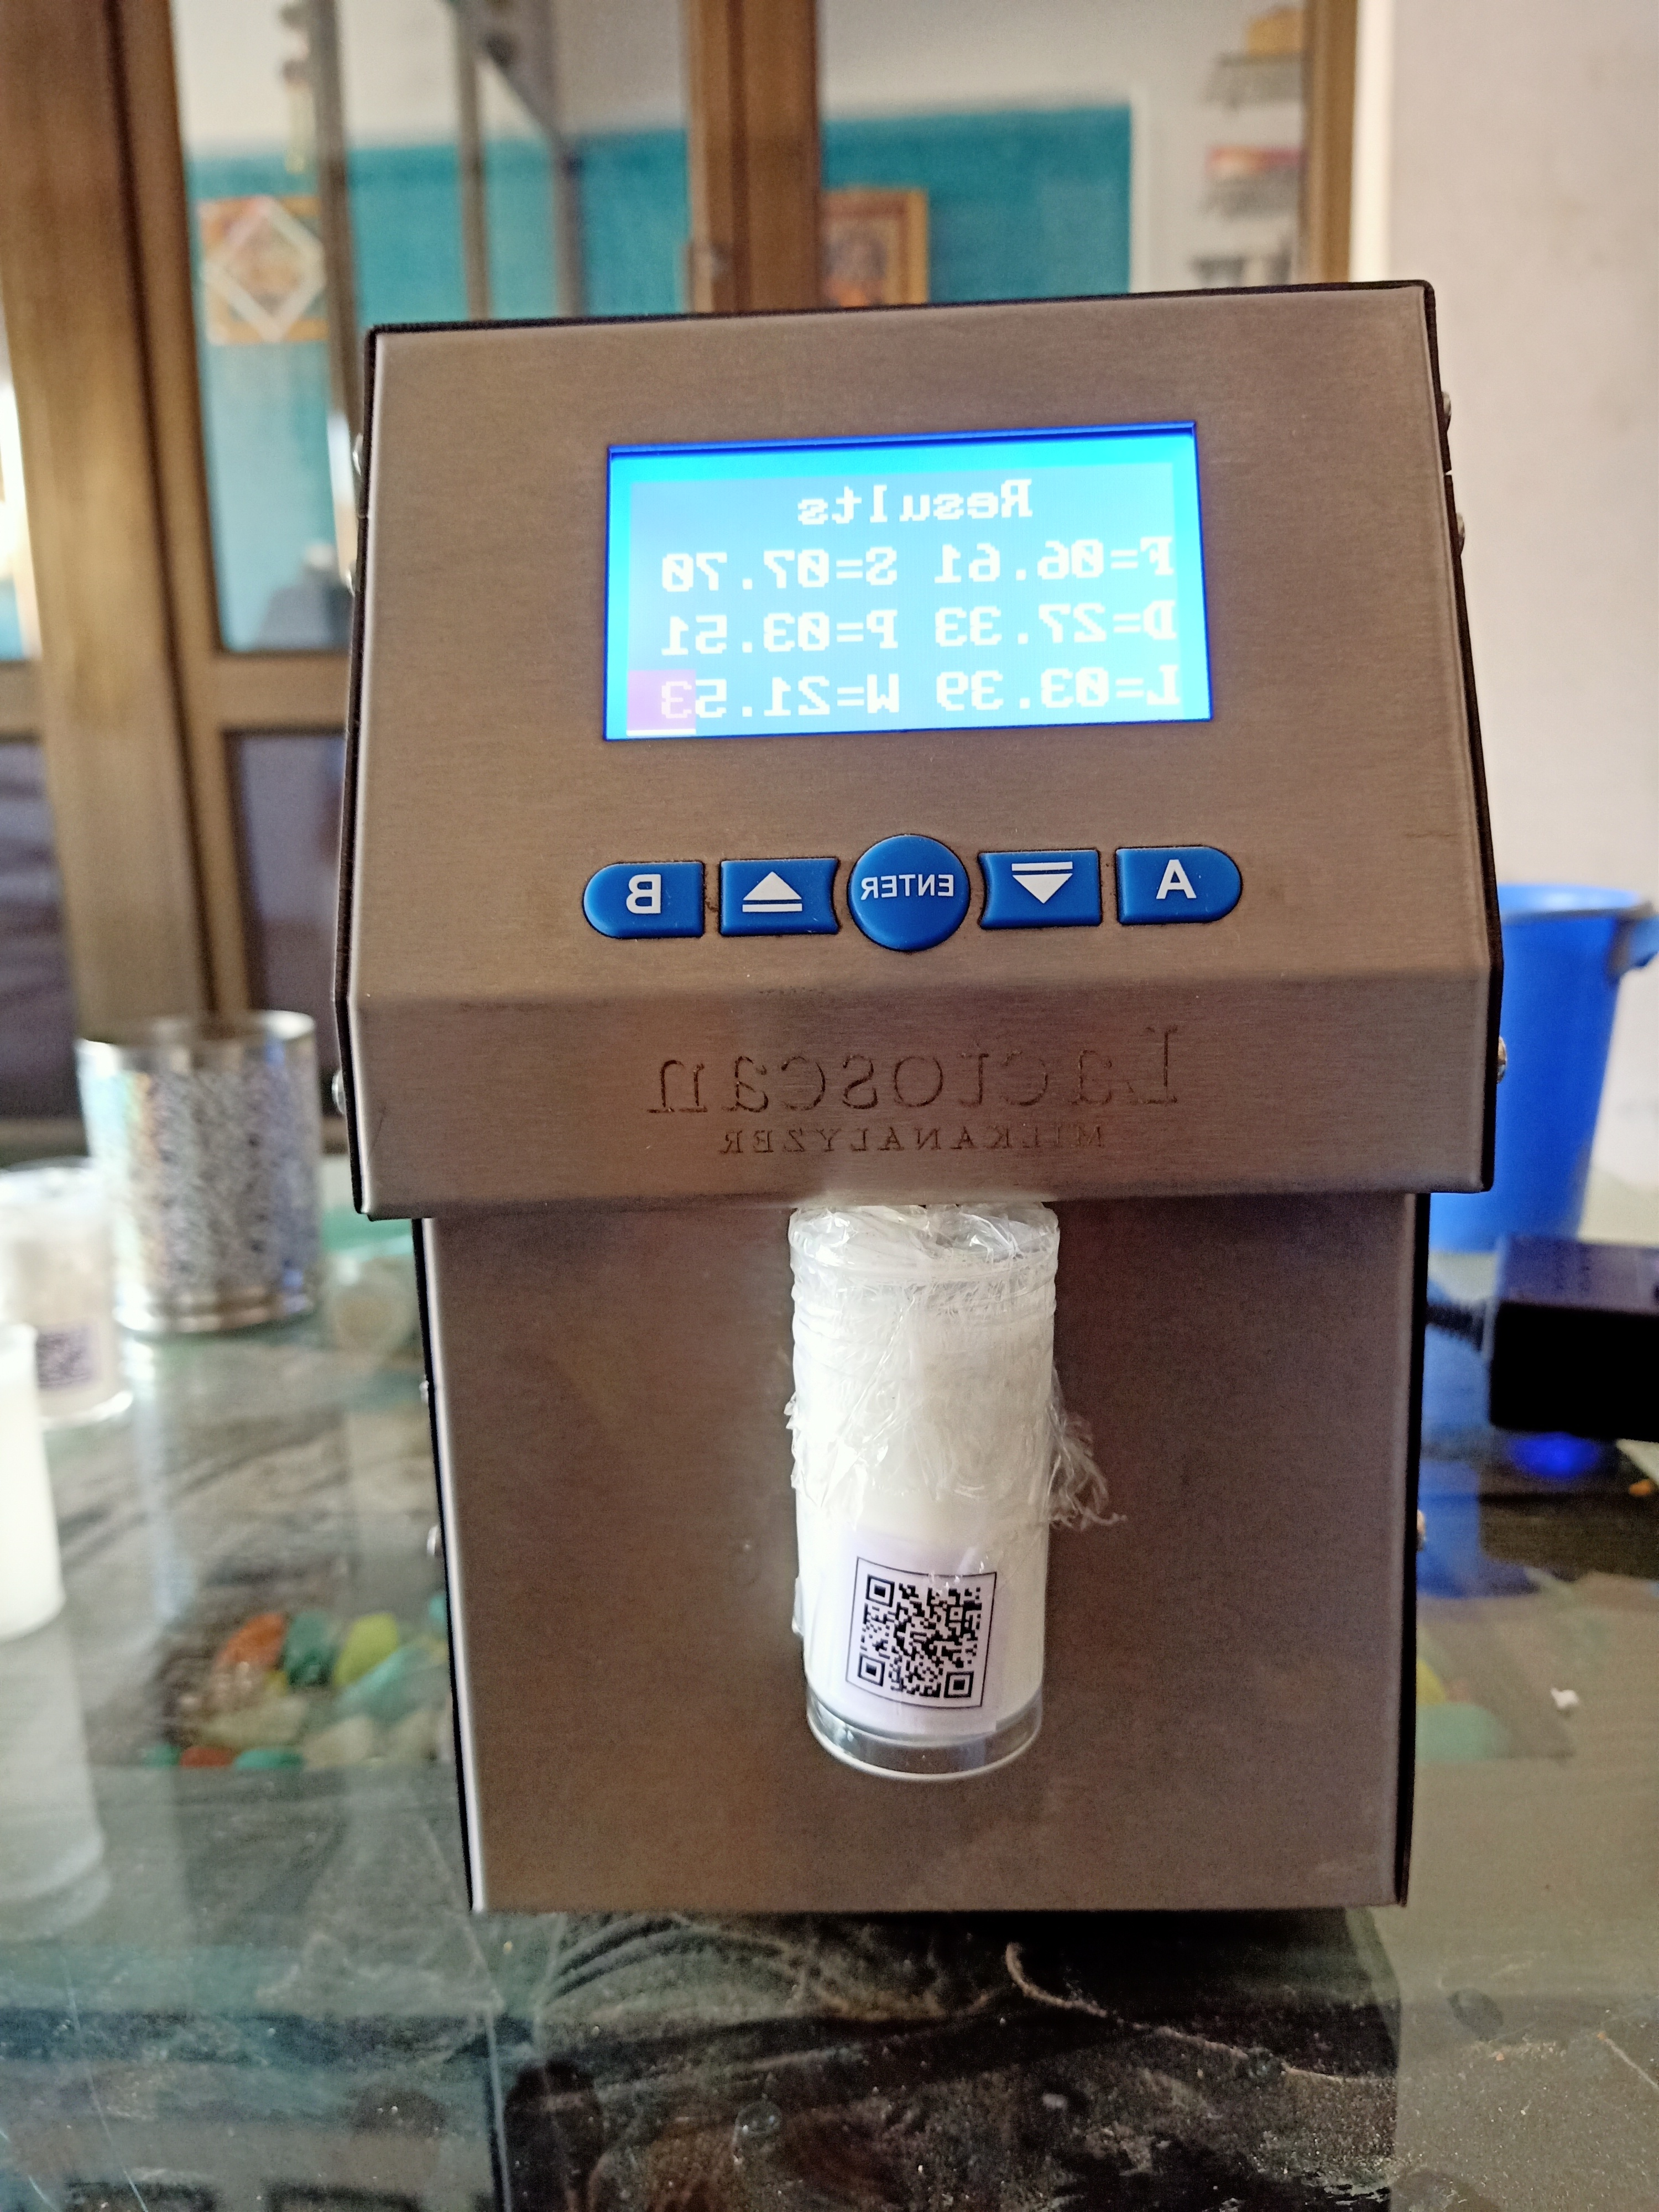lcd: (575, 397, 1229, 772)
qr: (849, 1555, 1007, 1731)
